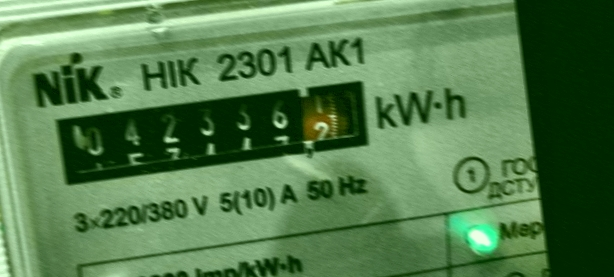0: (82, 123, 105, 158)
1: (309, 89, 324, 116)
2: (156, 109, 182, 146), (310, 120, 329, 143)
3: (193, 104, 215, 138), (232, 99, 253, 133)
4: (121, 114, 142, 148)
6: (267, 97, 291, 133)
screen: (41, 65, 385, 198)
